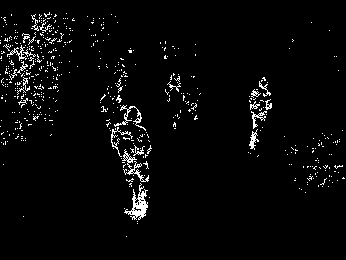person: (109, 106, 151, 222), (248, 76, 272, 152)
